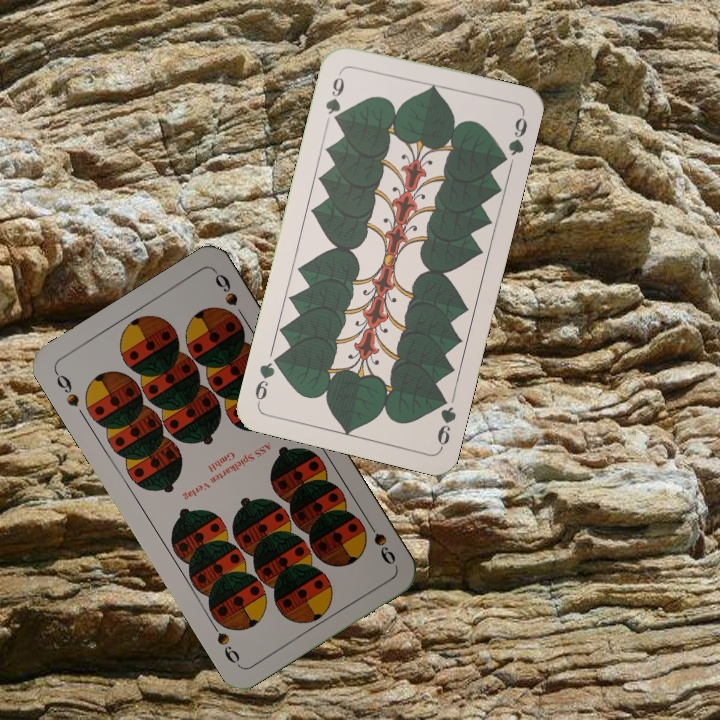G9: (433, 390, 459, 451), (321, 66, 347, 126)
S9: (361, 515, 399, 568), (50, 367, 82, 410)
